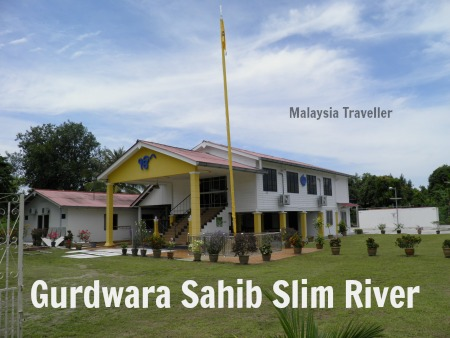Gurdwara: (85, 110, 361, 268)
